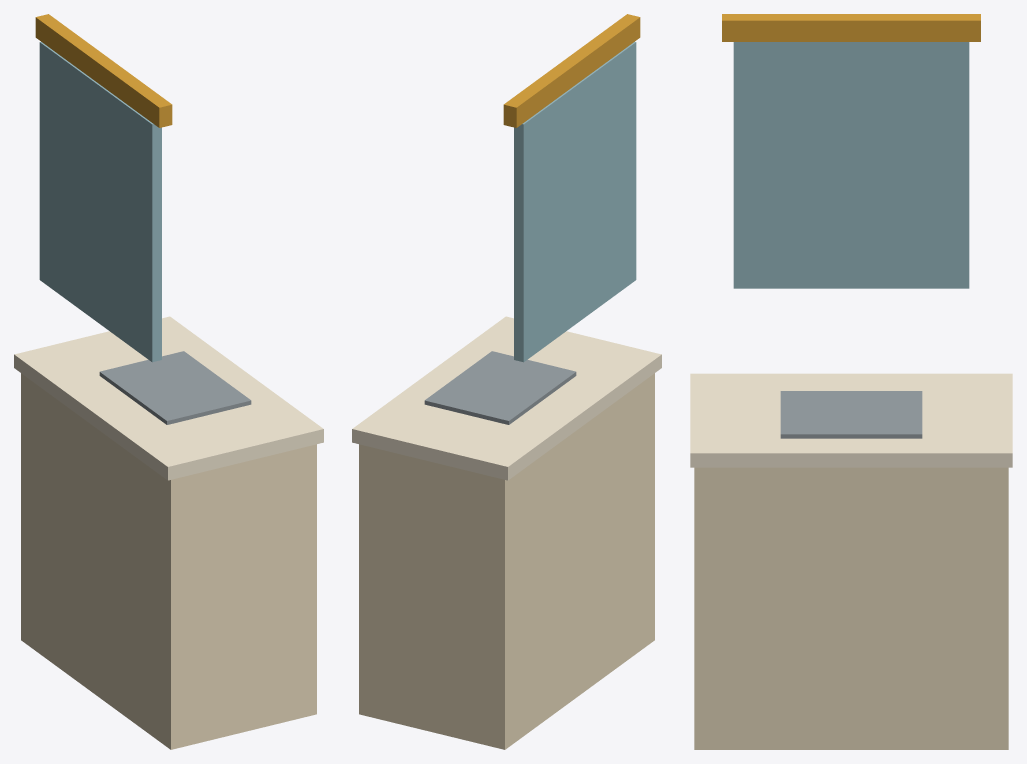
The model's file is bath_sink.glb.
The picture shows the model from 3 angles, left to right: view 1: azimuth 30°, elevation 25°; view 2: azimuth 150°, elevation 25°; view 3: azimuth 270°, elevation 25°; orthographic projection. The views are drawn at different scales.
Visible parts, largest first — view 1: Box1, Box4, Box2, Box3, Box5; view 2: Box1, Box4, Box2, Box3, Box5; view 3: Box1, Box4, Box2, Box5, Box3.
Boxes of the visible parts, x1,y1,x2,y2 form: Box1: [21, 373, 316, 749]; Box4: [39, 42, 161, 362]; Box2: [14, 316, 323, 480]; Box3: [99, 351, 251, 424]; Box5: [35, 14, 172, 127]; Box1: [359, 373, 654, 749]; Box4: [514, 42, 636, 362]; Box2: [352, 316, 661, 480]; Box3: [424, 351, 576, 424]; Box5: [503, 14, 640, 127]; Box1: [694, 467, 1008, 749]; Box4: [733, 42, 969, 288]; Box2: [690, 373, 1012, 467]; Box5: [722, 14, 980, 41]; Box3: [780, 391, 922, 438].
Size of the model in its own units: 0.48 by 1.86 by 0.82.
